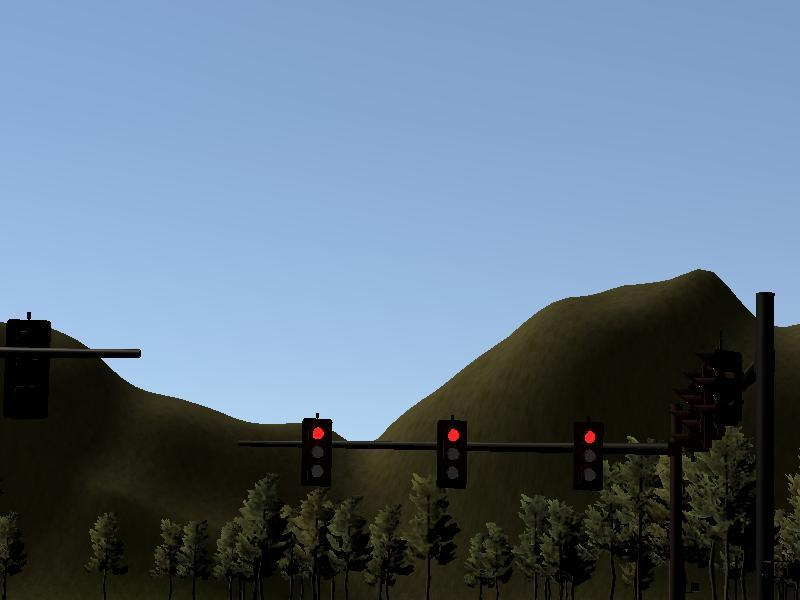Red: (301, 419, 330, 484), (577, 424, 605, 490), (439, 421, 465, 487)
